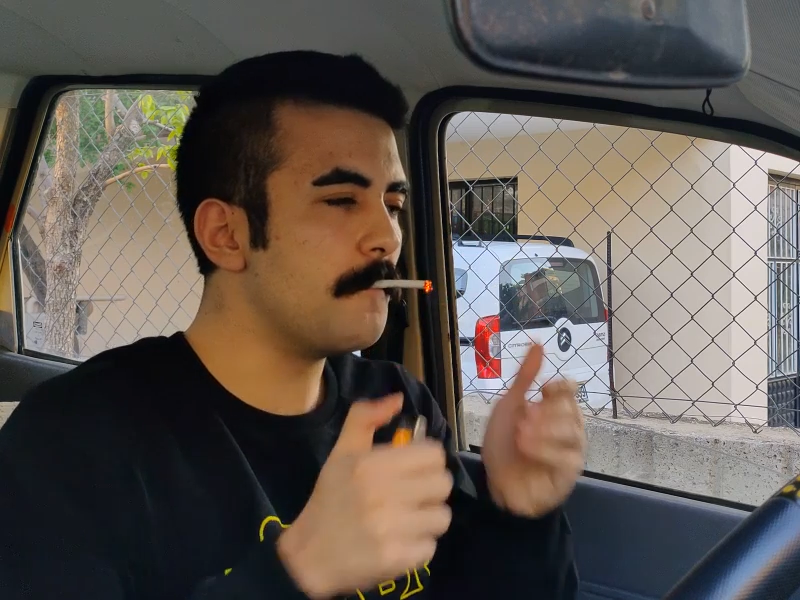sigara: (369, 277, 435, 295)
